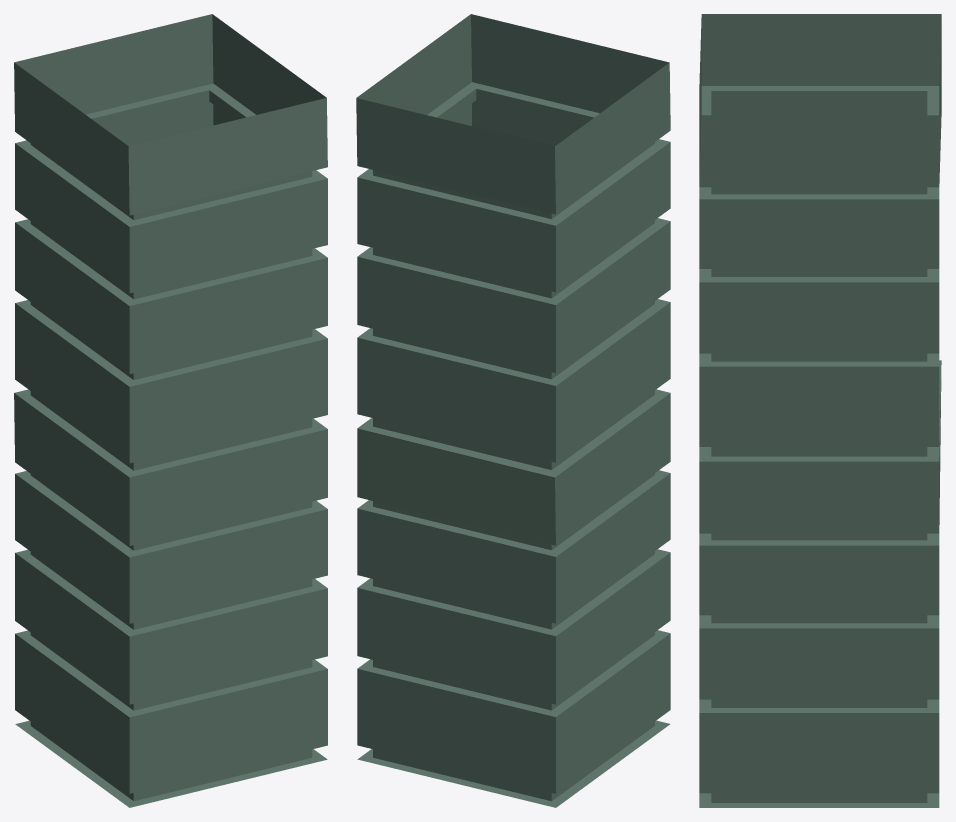
The model's file is column.fbx.
3 renders of one model, left to right at view 1: azimuth 30°, elevation 25°; view 2: azimuth 150°, elevation 25°; view 3: azimuth 270°, elevation 25°, orthographic. The views are drawn at different scales.
Visible parts, largest first — view 1: column; view 2: column; view 3: column.
Part boxes in pixels (x1,y1,x2,y2): column: (14, 14, 327, 807); column: (356, 14, 670, 807); column: (699, 14, 941, 807).
Size of the model in its own units: 74.44 by 237 by 75.12.
